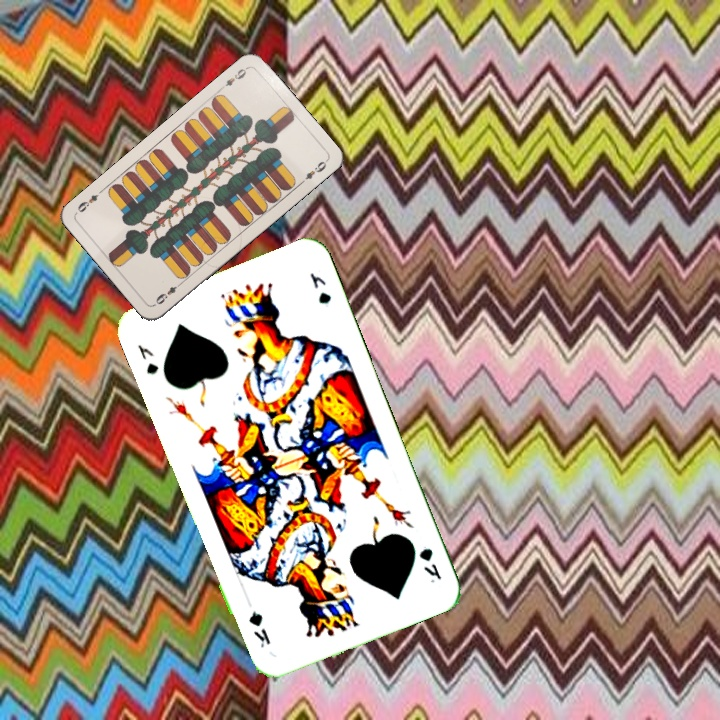E9: (216, 63, 250, 93), (151, 278, 185, 307)
GK: (414, 544, 445, 586), (133, 340, 162, 377)
